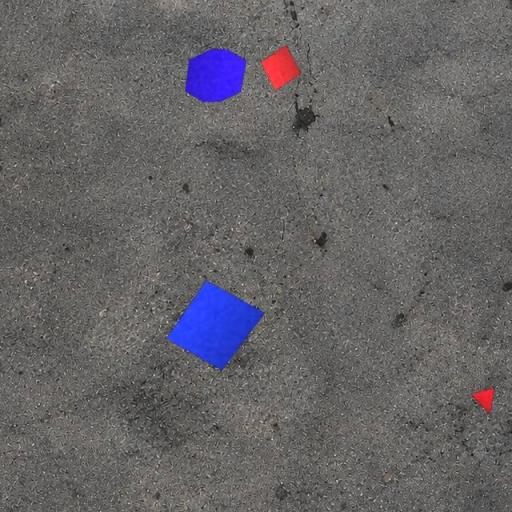BLUE_SQUARE: (166, 280, 266, 371)
RED_SQUARE: (260, 45, 302, 91)
